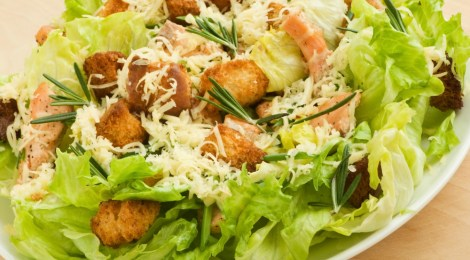chopped lettuce: (21, 149, 388, 260), (328, 9, 455, 201)
